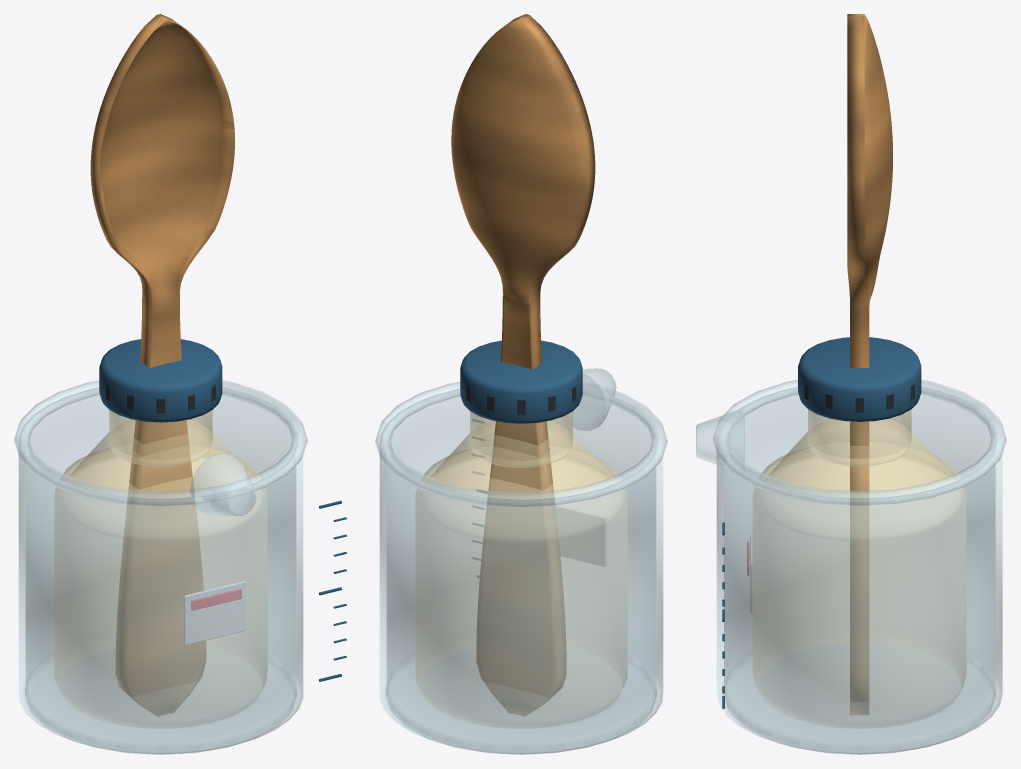
File: science-lab-kit-BLbBZB6b.glb
The picture shows the model from 3 angles, left to right: view 1: azimuth 30°, elevation 25°; view 2: azimuth 150°, elevation 25°; view 3: azimuth 270°, elevation 25°; orthographic projection.
Parts seen in each view (by area): view 1: BEAKER_GLASS_WALL, SPOON_WOOD_BODY, BOTTLE_BODY, BOTTLE_SHOULDER, BEAKER_GLASS_BASE, BEAKER_ROLLED_RIM, BOTTLE_CAP, BOTTLE_NECK, BEAKER_SPOUT, BOTTLE_LABEL, BOTTLE_LABEL_STRIPE; view 2: BEAKER_GLASS_WALL, SPOON_WOOD_BODY, BOTTLE_BODY, BOTTLE_SHOULDER, BEAKER_GLASS_BASE, BEAKER_ROLLED_RIM, BOTTLE_CAP, BOTTLE_NECK, BOTTLE_LABEL, BEAKER_SPOUT; view 3: BEAKER_GLASS_WALL, BOTTLE_BODY, SPOON_WOOD_BODY, BOTTLE_SHOULDER, BEAKER_GLASS_BASE, BOTTLE_CAP, BEAKER_ROLLED_RIM, BOTTLE_NECK, BEAKER_SPOUT.
Part boxes in pixels (box(x1,y1,x2,y2)): BEAKER_GLASS_WALL: box(18, 387, 303, 753); SPOON_WOOD_BODY: box(90, 14, 234, 716); BOTTLE_BODY: box(54, 447, 267, 728); BOTTLE_SHOULDER: box(69, 420, 252, 517); BEAKER_GLASS_BASE: box(25, 653, 296, 754); BEAKER_ROLLED_RIM: box(14, 380, 307, 506); BOTTLE_CAP: box(99, 339, 222, 422); BOTTLE_NECK: box(109, 410, 212, 466); BEAKER_SPOUT: box(190, 453, 256, 516); BOTTLE_LABEL: box(184, 581, 245, 645); BOTTLE_LABEL_STRIPE: box(191, 588, 241, 610); BEAKER_GLASS_WALL: box(379, 389, 663, 753); SPOON_WOOD_BODY: box(451, 14, 595, 716); BOTTLE_BODY: box(415, 449, 627, 728); BOTTLE_SHOULDER: box(430, 421, 612, 518); BEAKER_GLASS_BASE: box(386, 654, 656, 754); BEAKER_ROLLED_RIM: box(375, 382, 667, 507); BOTTLE_CAP: box(460, 340, 582, 423); BOTTLE_NECK: box(470, 411, 572, 467); BOTTLE_LABEL: box(556, 506, 605, 566); BEAKER_SPOUT: box(561, 368, 616, 430); BEAKER_GLASS_WALL: box(716, 387, 1002, 754); BOTTLE_BODY: box(753, 447, 966, 728); SPOON_WOOD_BODY: box(847, 14, 892, 714); BOTTLE_SHOULDER: box(768, 419, 951, 516); BEAKER_GLASS_BASE: box(724, 653, 995, 754); BOTTLE_CAP: box(798, 337, 921, 421); BEAKER_ROLLED_RIM: box(713, 380, 1006, 505); BOTTLE_NECK: box(808, 409, 911, 466); BEAKER_SPOUT: box(696, 407, 744, 470).
Size of the model in its own units: 0.908 by 2.37 by 0.959.
10 materials, 3 textured.
